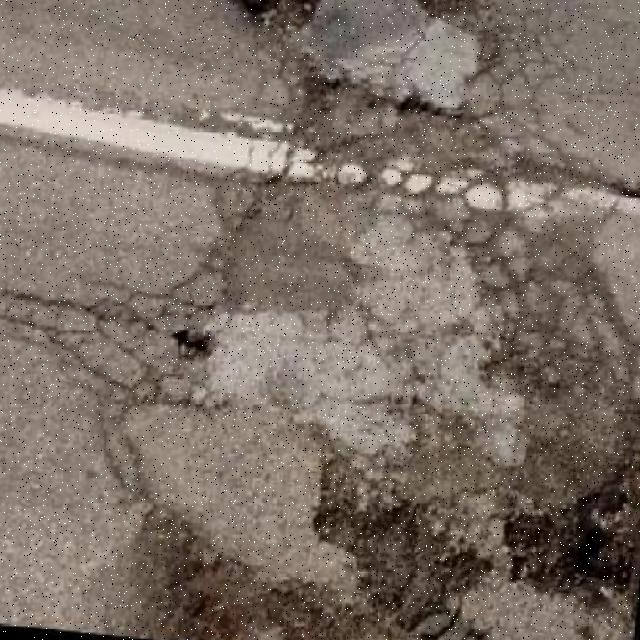pothole: (314, 458, 492, 631), (506, 488, 637, 595), (241, 0, 316, 28)
